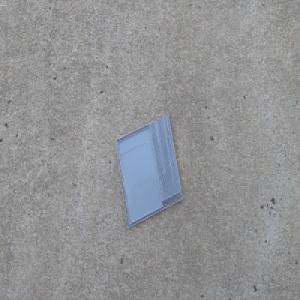PlasticPart: (114, 113, 183, 228)
